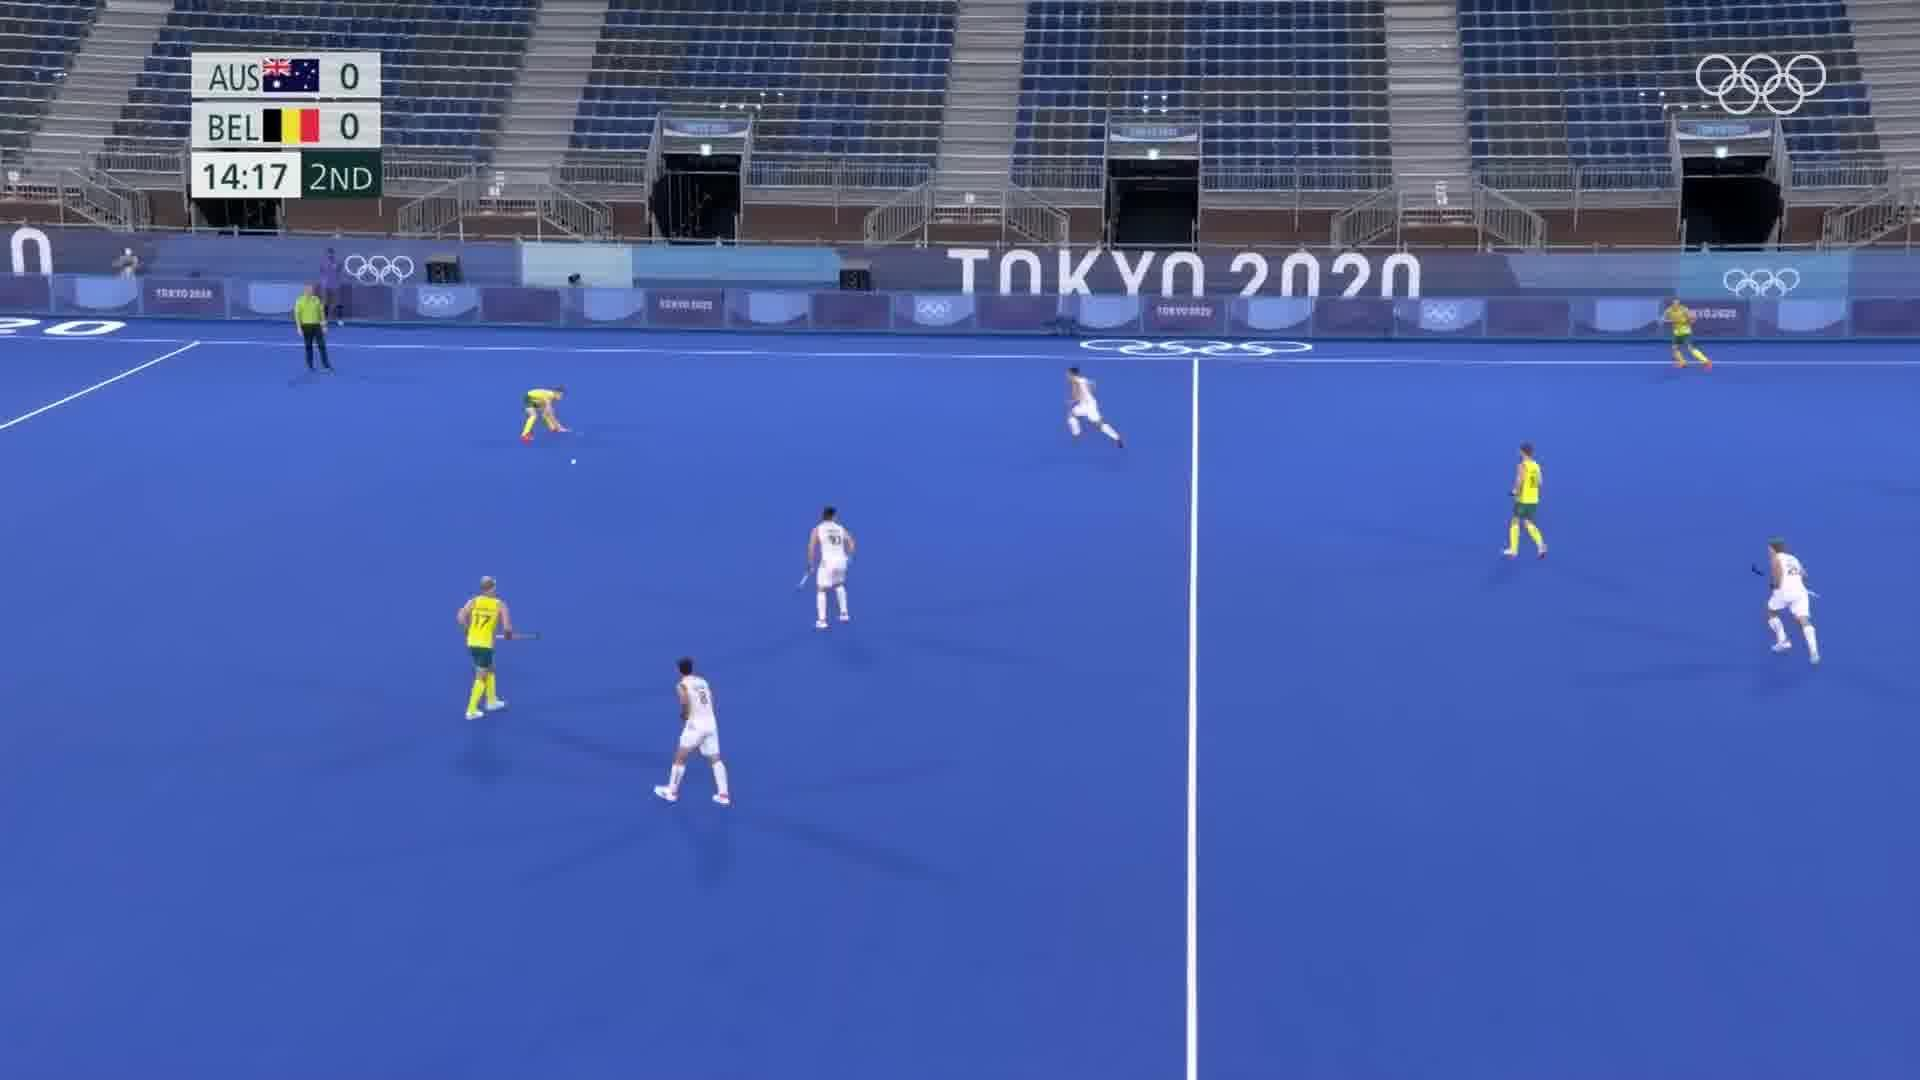ball: (564, 453, 584, 471)
